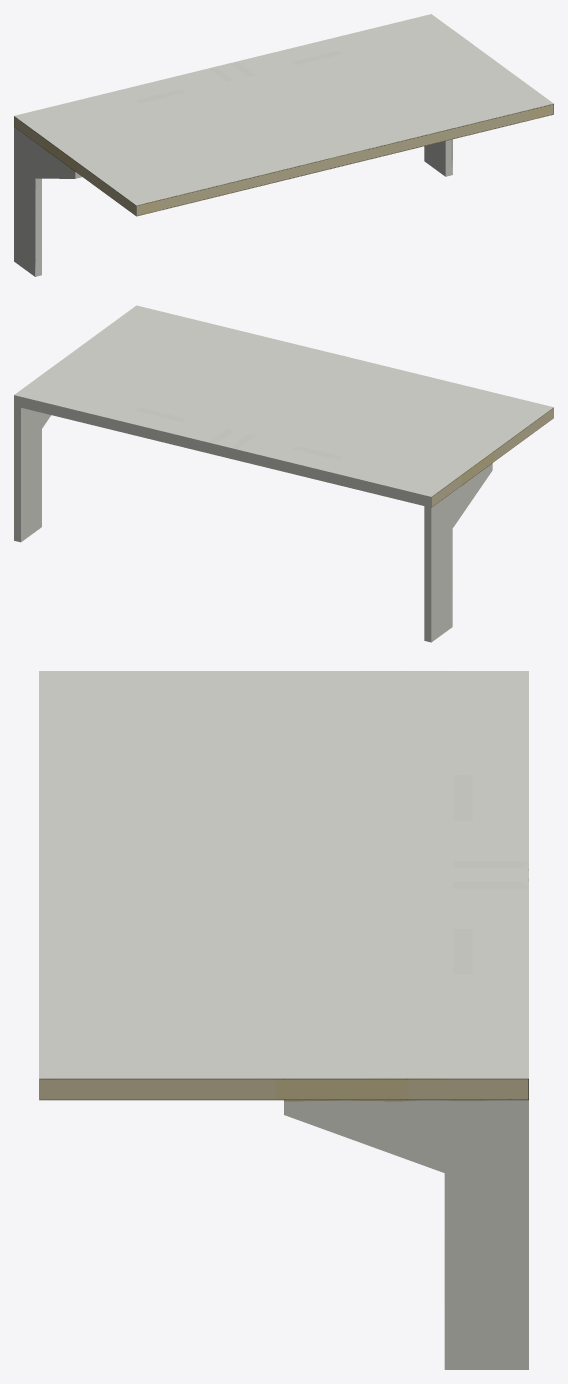
The model's file is Desk_LP.fbx.
3 renders of one model, top to bottom at view 1: azimuth 30°, elevation 25°; view 2: azimuth 150°, elevation 25°; view 3: azimuth 270°, elevation 25°, orthographic. The views are drawn at different scales.
Parts seen in each view (by area): view 1: Desk; view 2: Desk; view 3: Desk.
Part boxes in pixels (x1,y1,x2,y2): Desk: (14, 14, 553, 276); Desk: (14, 305, 553, 642); Desk: (39, 671, 528, 1369).
Bounding box in the file's own units: 1200 × 610 × 400.
1 material, 1 textured.
